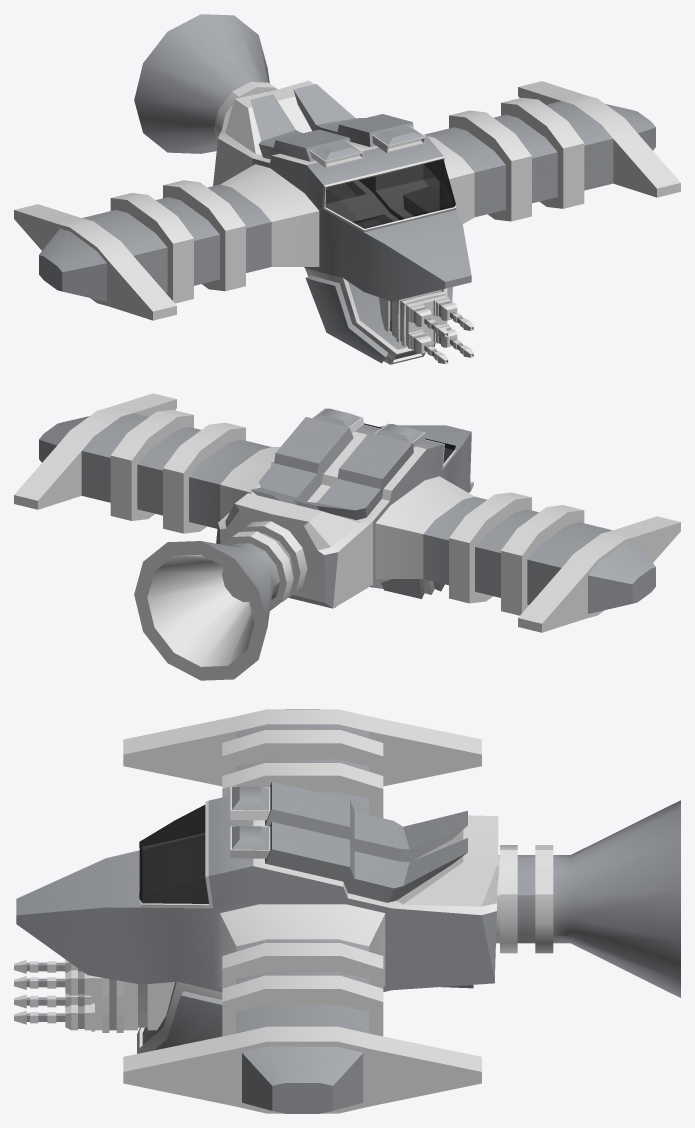
The model's file is CDC.fbx.
3 views of the same model, one above another, from view 1: azimuth 30°, elevation 25°; view 2: azimuth 150°, elevation 25°; view 3: azimuth 270°, elevation 25° (orthographic). The views are drawn at different scales.
Visible parts, largest first — view 1: CDC; view 2: CDC; view 3: CDC.
Boxes of the visible parts, x1=… form: CDC: x1=14, y1=14, x2=680, y2=364; CDC: x1=14, y1=393, x2=680, y2=680; CDC: x1=14, y1=709, x2=680, y2=1113.
Bounding box in the file's own units: 8.9 × 2.84 × 6.71.
